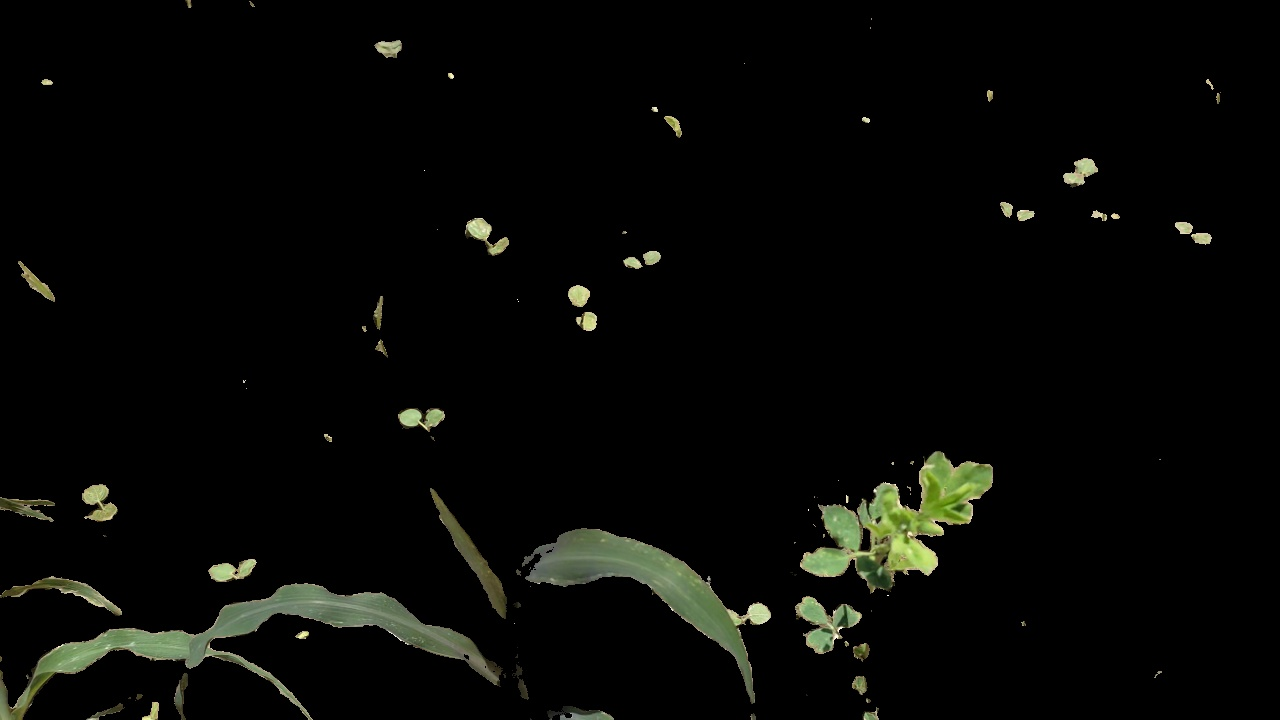crop: (213, 486, 760, 720), (1, 544, 308, 720)
weed: (800, 435, 1018, 583), (779, 587, 903, 701), (74, 476, 127, 527), (456, 219, 519, 259), (386, 408, 451, 445), (1058, 146, 1101, 199), (568, 276, 606, 335), (1173, 214, 1217, 253), (206, 553, 259, 582), (995, 196, 1036, 230), (621, 244, 664, 268)
